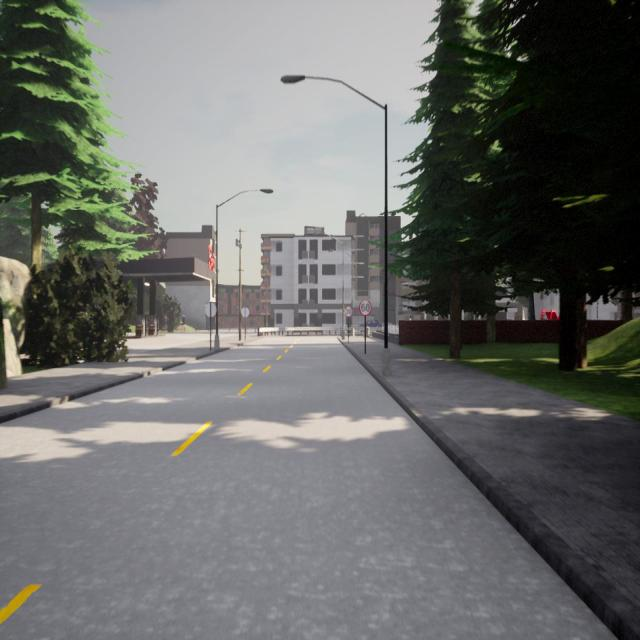Pedestrian: (407, 314, 412, 320)
Traffic_Signs: (359, 299, 372, 317), (204, 302, 217, 318), (344, 305, 354, 318), (240, 307, 250, 318)
Vehicle: (360, 319, 379, 327)
